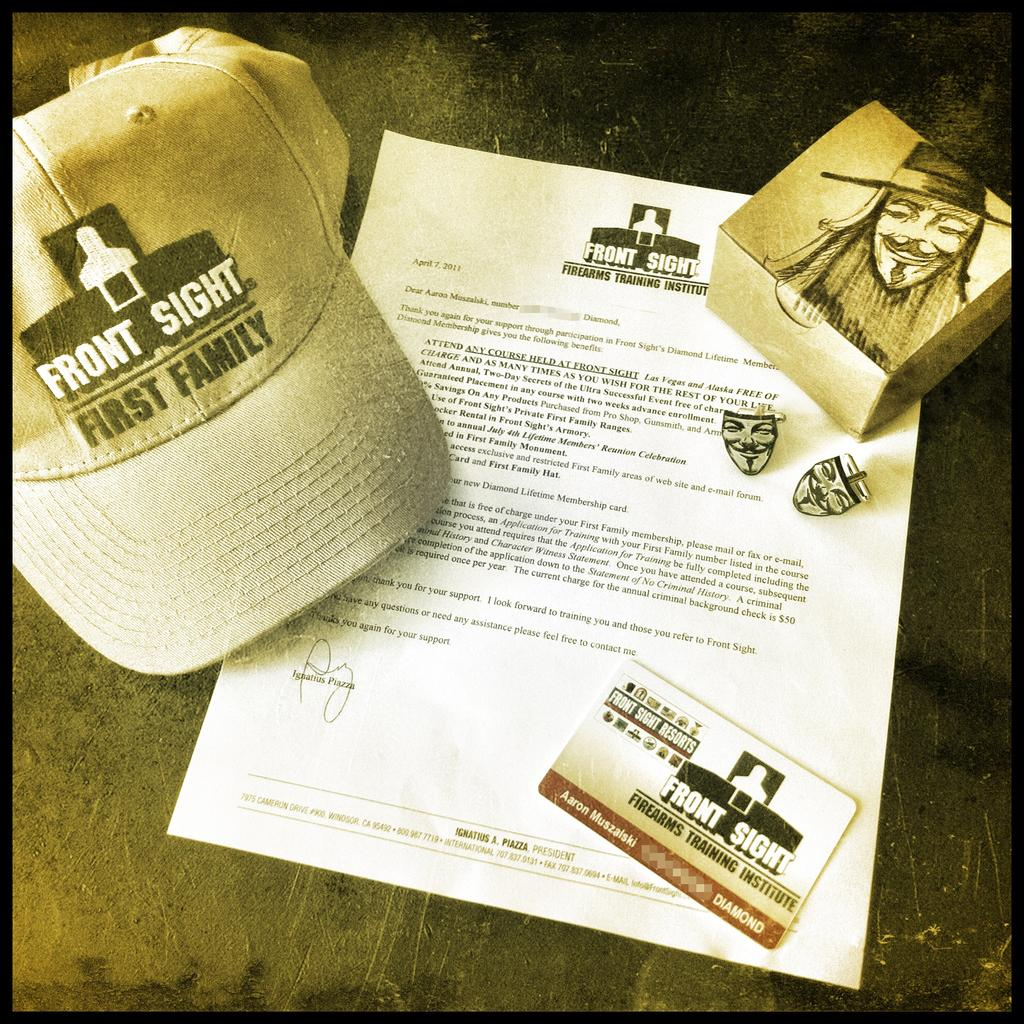Hat: (10, 20, 448, 676), (820, 142, 1008, 223)
